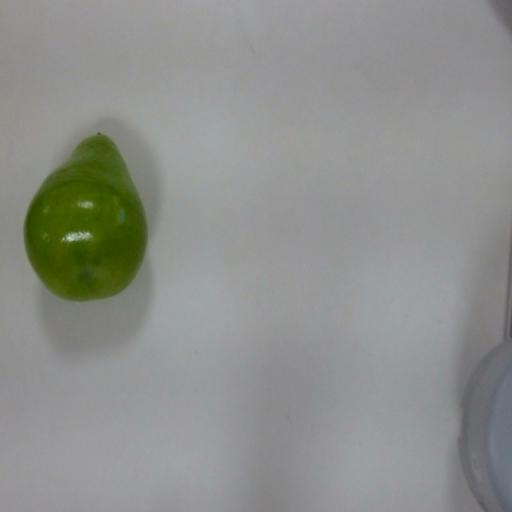Unripe: (27, 102, 158, 326)
